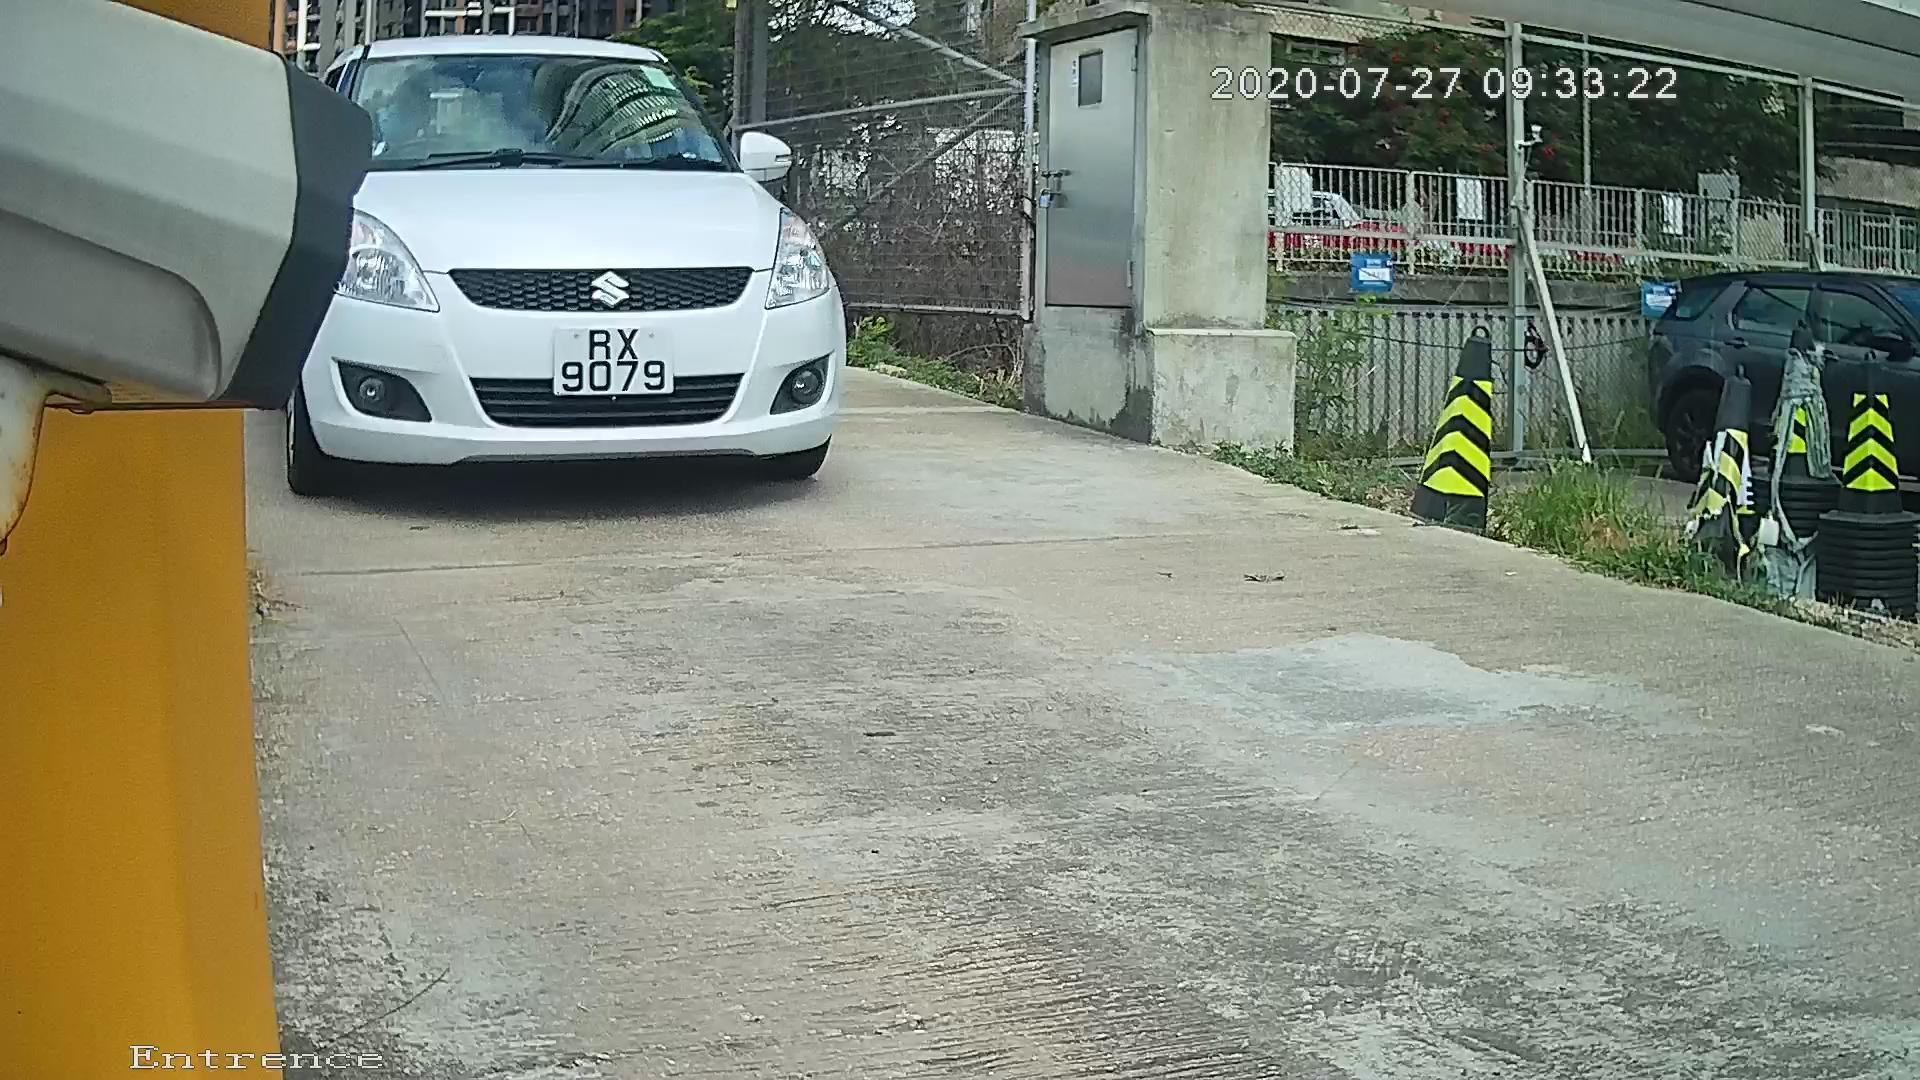Car: (206, 25, 918, 507)
License Plate: (523, 319, 678, 401)
